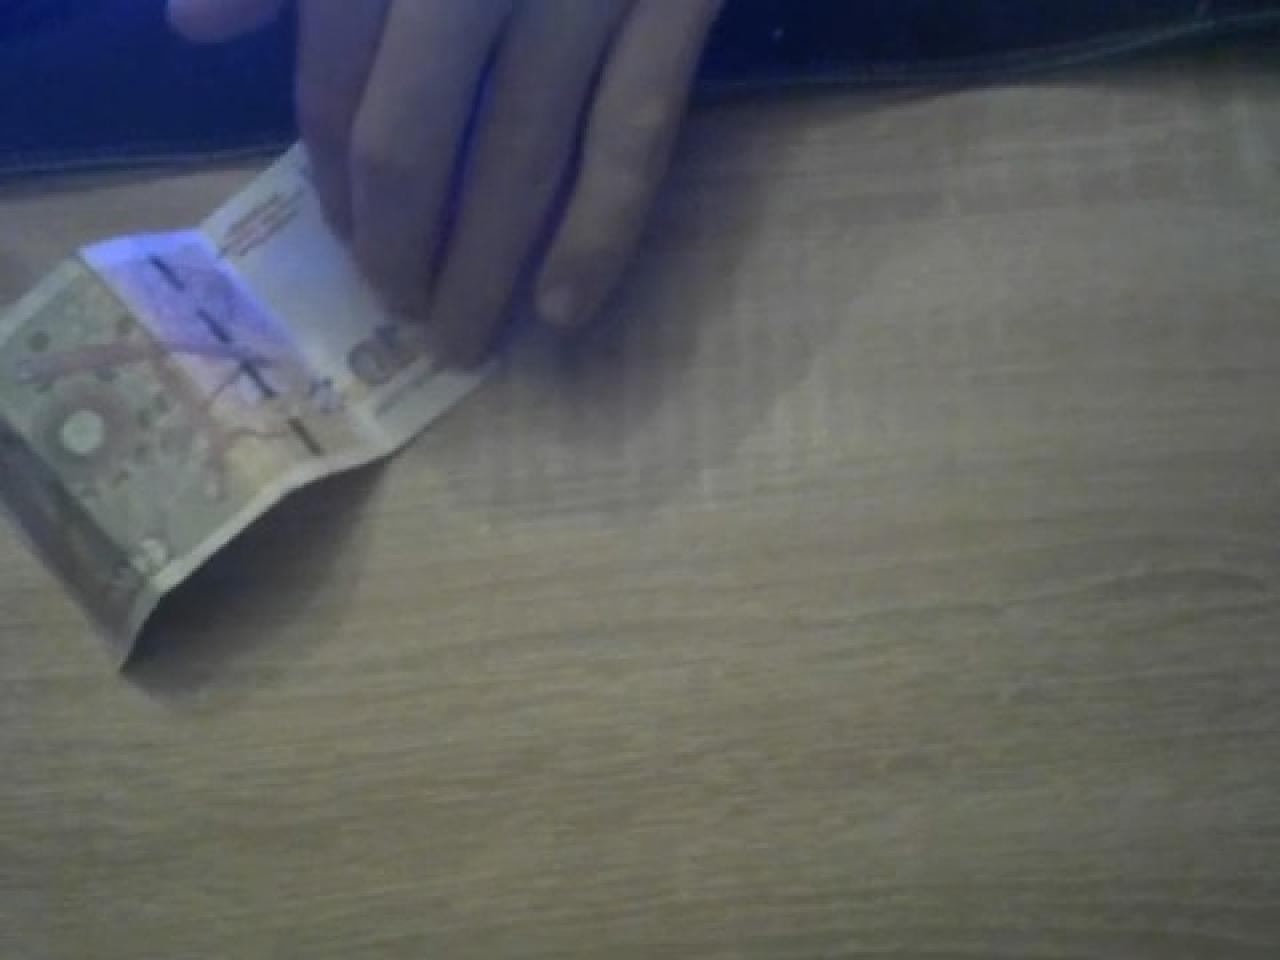10leva: (0, 136, 493, 670)
